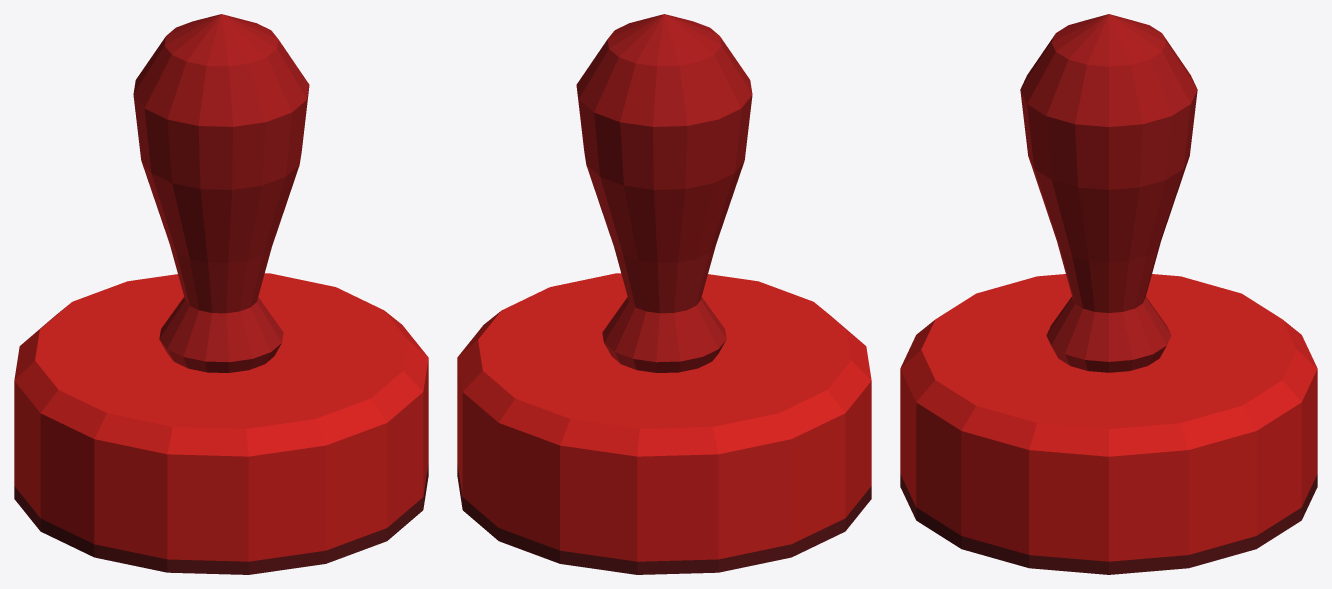
The model's file is stamp_round.glb.
3 views of the same model, side by side, from view 1: azimuth 30°, elevation 25°; view 2: azimuth 150°, elevation 25°; view 3: azimuth 270°, elevation 25° (orthographic).
Parts seen in each view (by area): view 1: Body, Handle, Pad; view 2: Body, Handle, Pad; view 3: Body, Handle, Pad.
Part boxes in pixels (x1=…): Body: x1=14, y1=273, x2=428, y2=561; Handle: x1=133, y1=14, x2=309, y2=372; Pad: x1=14, y1=464, x2=428, y2=574; Body: x1=457, y1=273, x2=871, y2=561; Handle: x1=576, y1=14, x2=752, y2=372; Pad: x1=457, y1=464, x2=871, y2=574; Body: x1=900, y1=274, x2=1317, y2=561; Handle: x1=1020, y1=14, x2=1197, y2=372; Pad: x1=900, y1=474, x2=1317, y2=574.
Bounding box in the file's own units: 0.8 × 1 × 0.8.
